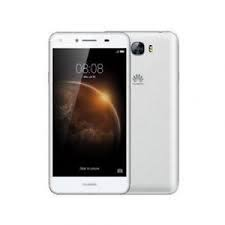huawei: (45, 28, 130, 196), (127, 25, 183, 194)
